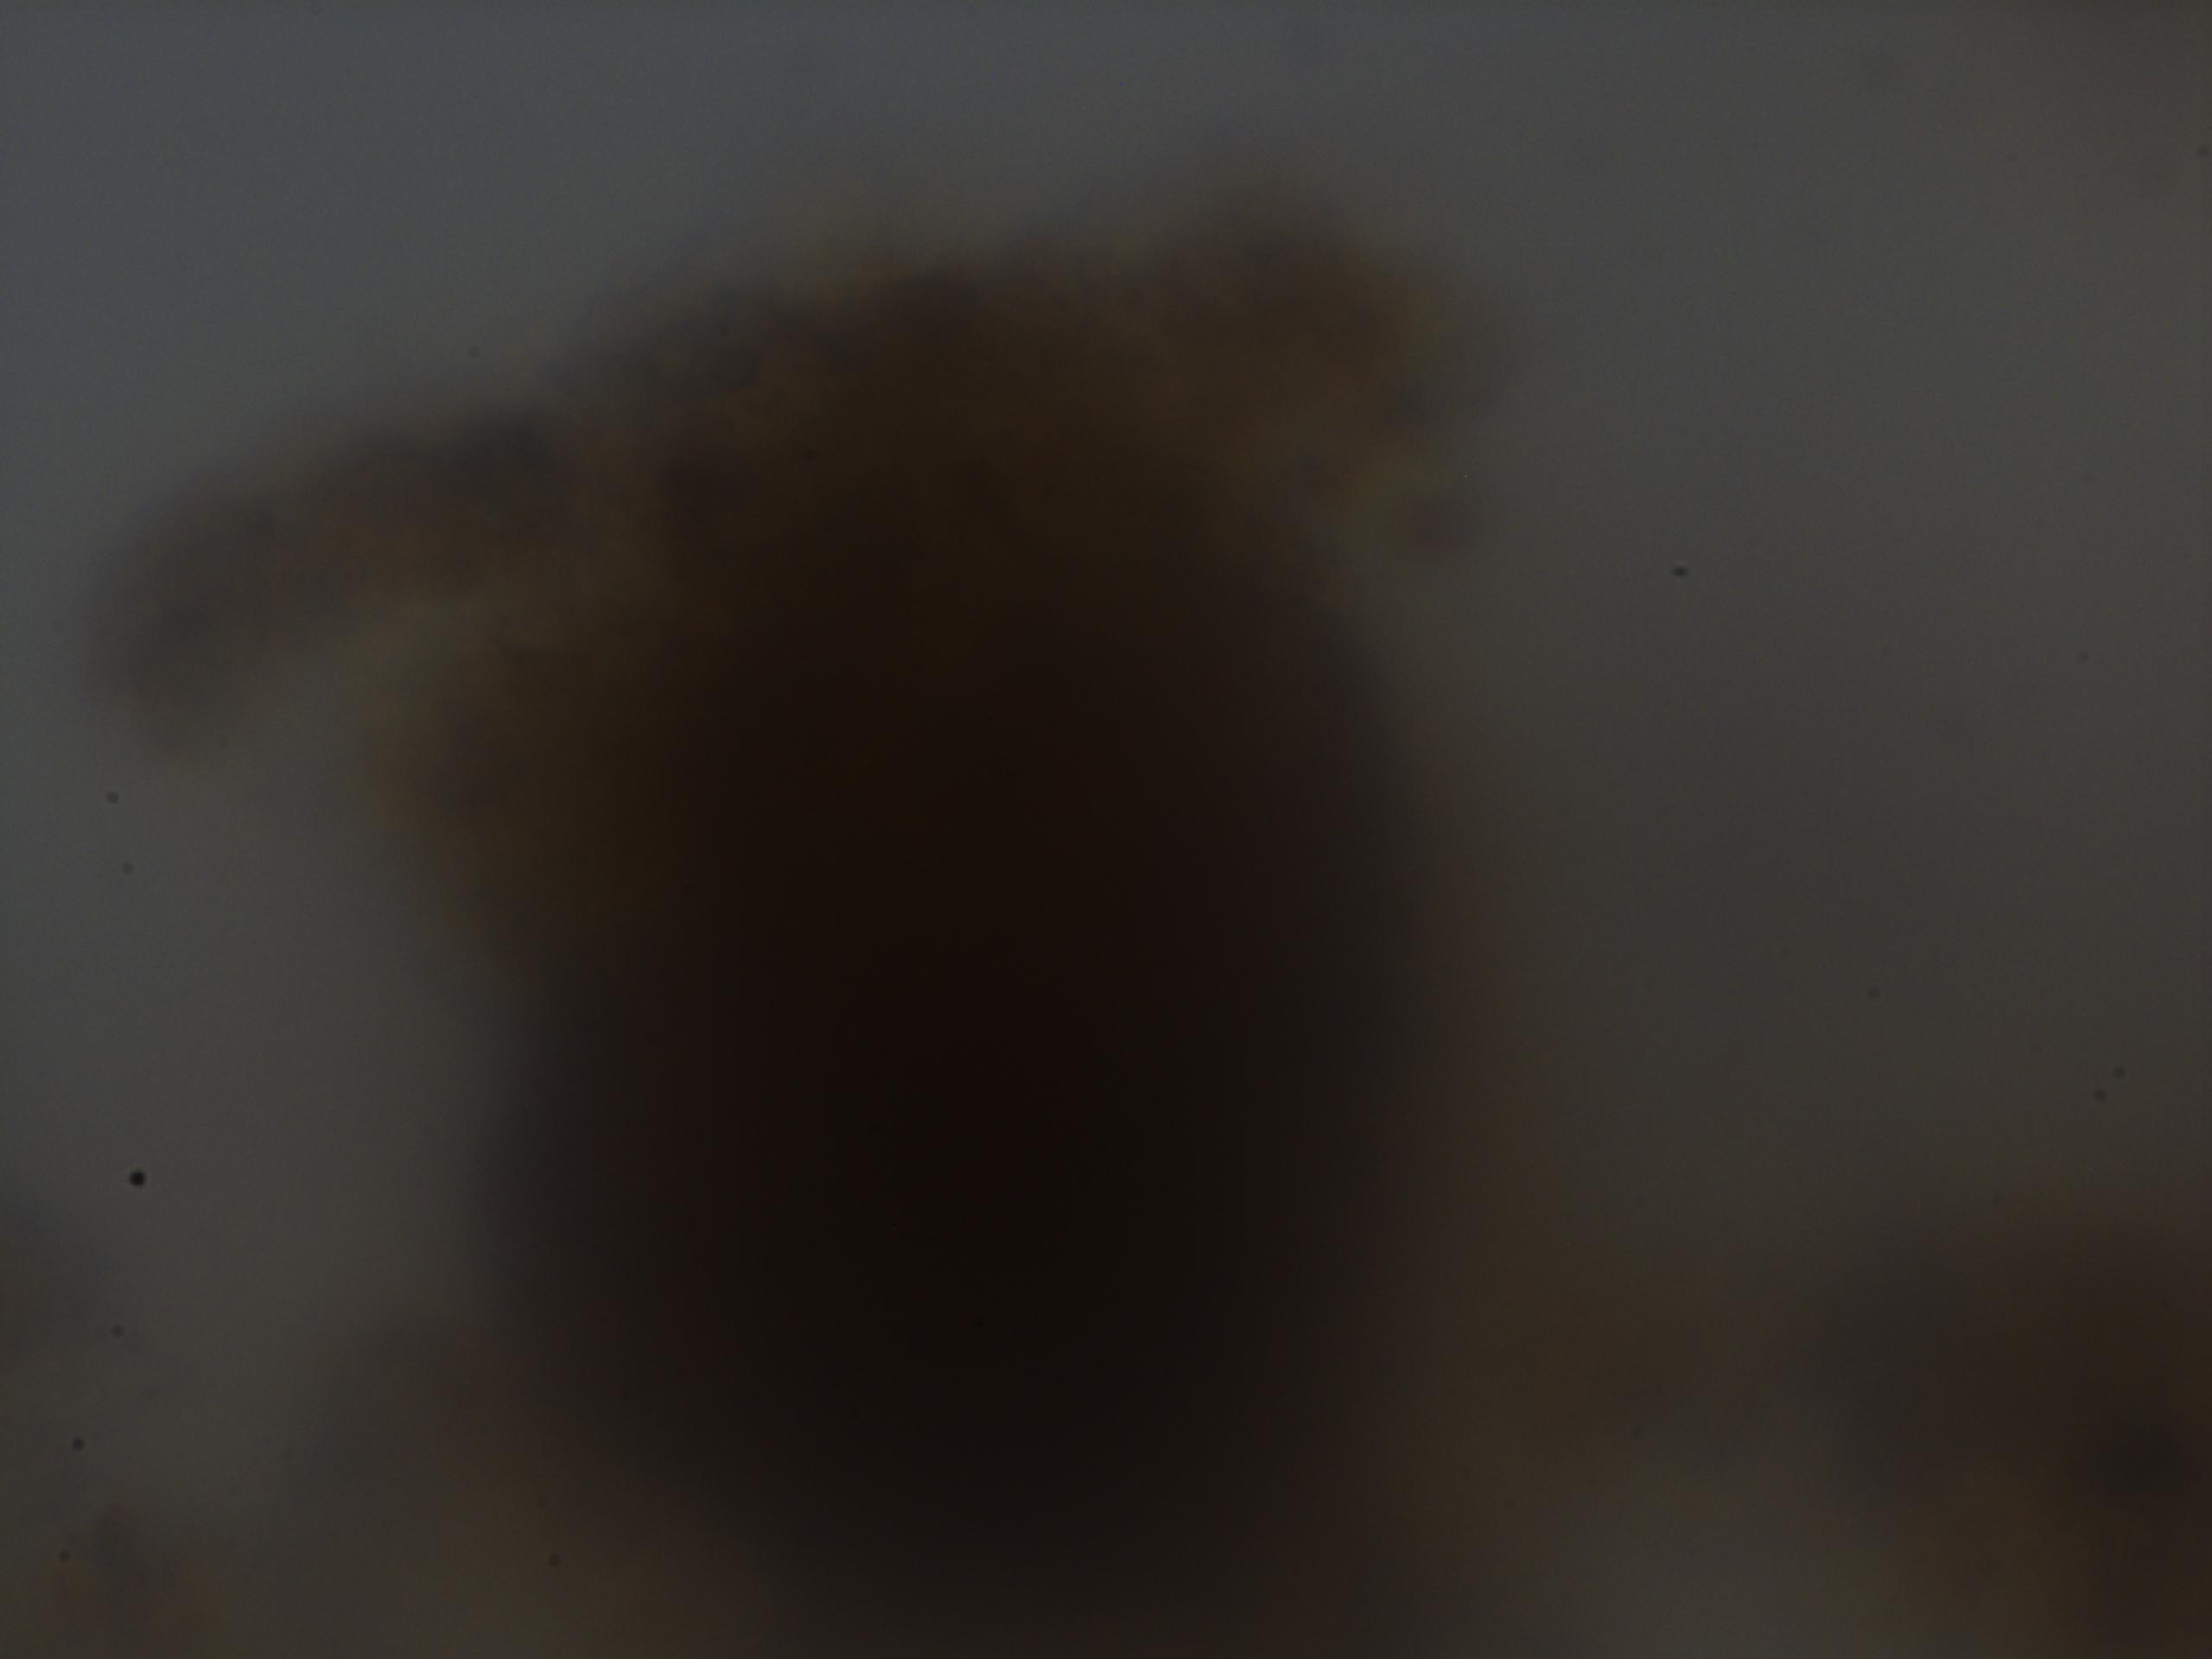spherical_floc: (392, 246, 1500, 1654)
